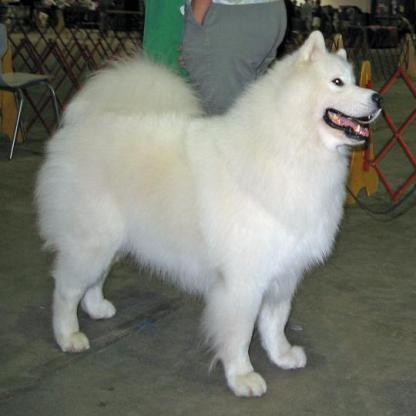Samoyed: (36, 29, 385, 398)
